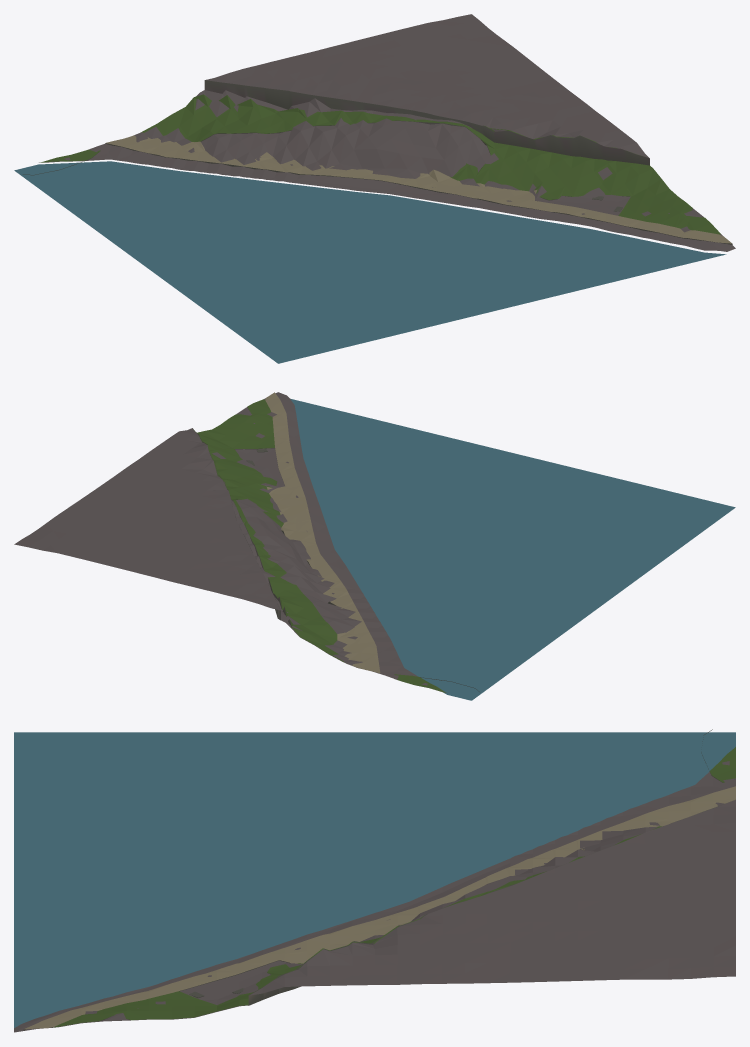
The picture shows the model from 3 angles, top to bottom: view 1: azimuth 30°, elevation 25°; view 2: azimuth 150°, elevation 25°; view 3: azimuth 270°, elevation 25°; orthographic projection. The views are drawn at different scales.
Visible parts, largest first — view 1: c_m21_m02; view 2: c_m21_m02; view 3: c_m21_m02.
Part boxes in pixels (left/top/right/bottom): c_m21_m02: left=14, top=14, right=735, bottom=363; c_m21_m02: left=14, top=392, right=735, bottom=700; c_m21_m02: left=14, top=729, right=735, bottom=1032.
Bounding box in the file's own units: 128 × 12.45 × 128.
